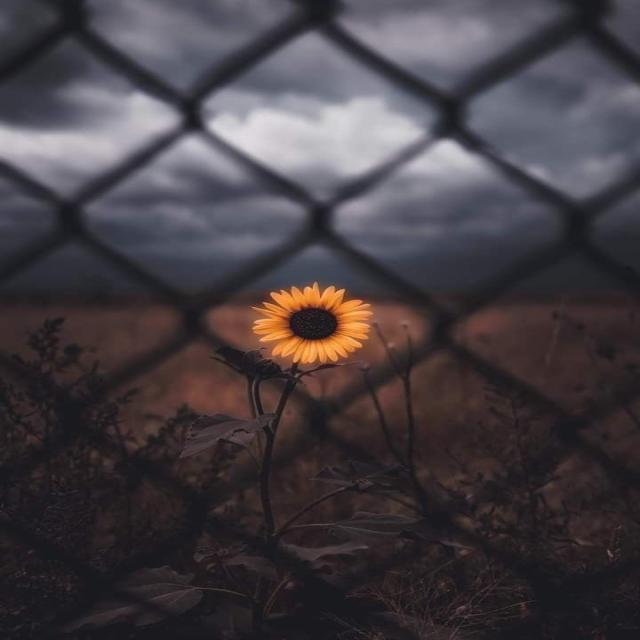sunflower: (248, 280, 374, 364)
